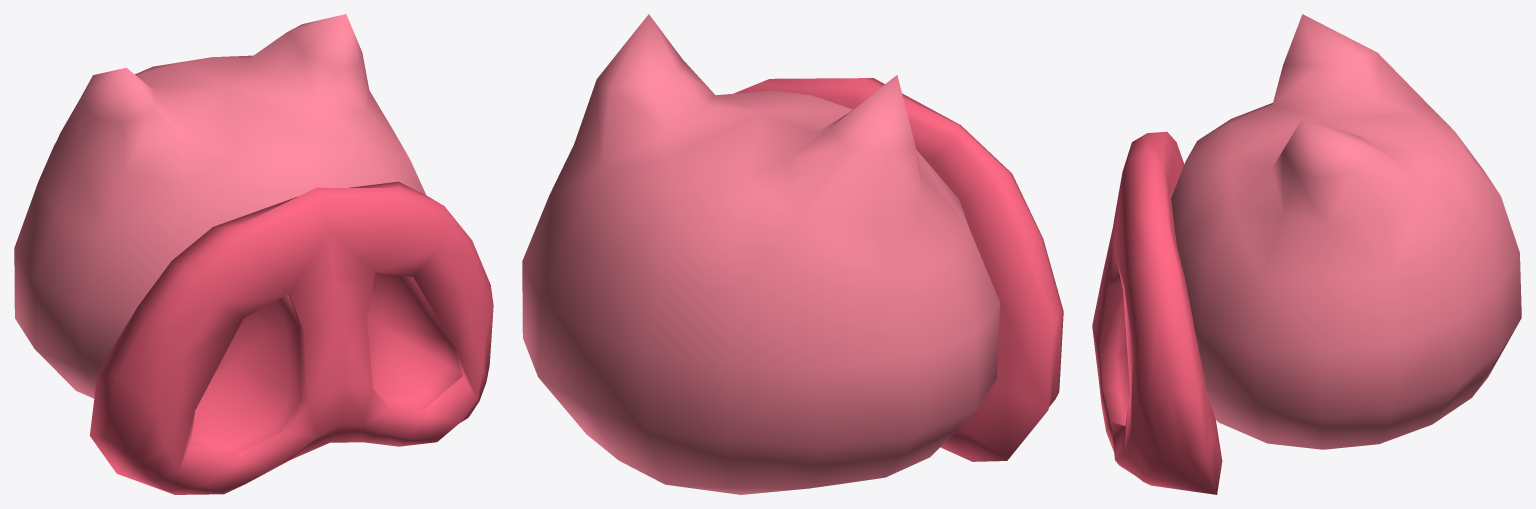
File: hana_l.fbx
3 renders of one model, left to right at view 1: azimuth 30°, elevation 25°; view 2: azimuth 150°, elevation 25°; view 3: azimuth 270°, elevation 25°, orthographic. The views are drawn at different scales.
Visible parts, largest first — view 1: Sphere001, Sphere002; view 2: Sphere002, Sphere001; view 3: Sphere002, Sphere001.
Boxes of the visible parts, x1,y1,x2,y2 form: Sphere001: (89, 181, 493, 494); Sphere002: (14, 14, 426, 398); Sphere002: (522, 14, 999, 494); Sphere001: (734, 78, 1063, 461); Sphere002: (1171, 14, 1521, 449); Sphere001: (1092, 131, 1222, 494).
Size of the model in its own units: 99.76 by 90.85 by 97.79.
